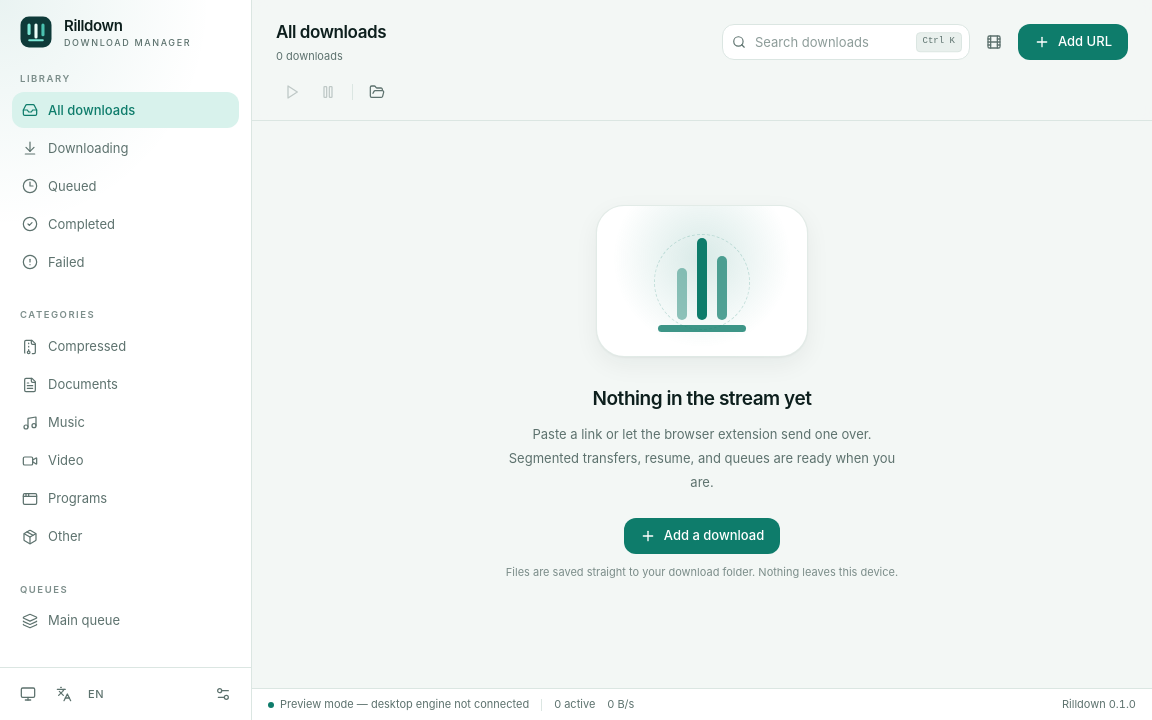
Test: application shell › renders the empty library and opens the add dialog
Expected: the heading "All downloads" is shown, [276, 20, 386, 46]
Expected: the heading "Nothing in the stream yet" is shown, [593, 385, 811, 414]
What coordinates should you click on to do the following:
click the button "Add URL"
I would click on:
 (1073, 42)
Its box is [1018, 24, 1128, 60].
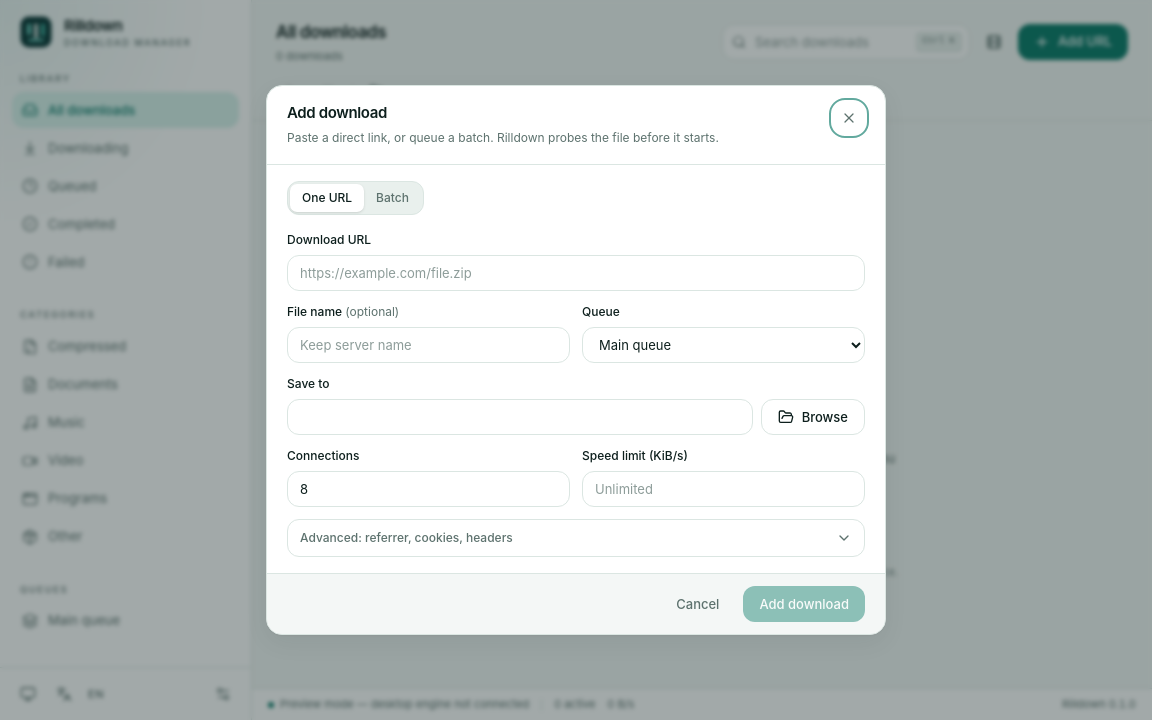
Now the dialog "Add download" is shown, box [266, 85, 886, 635]
